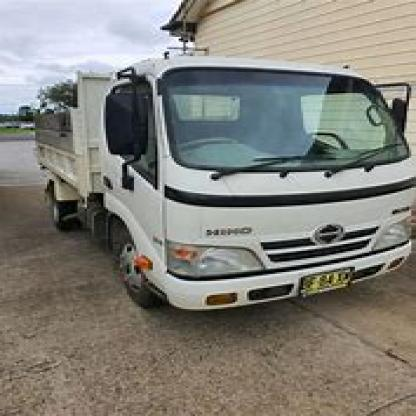dump_truck: (38, 44, 409, 314)
